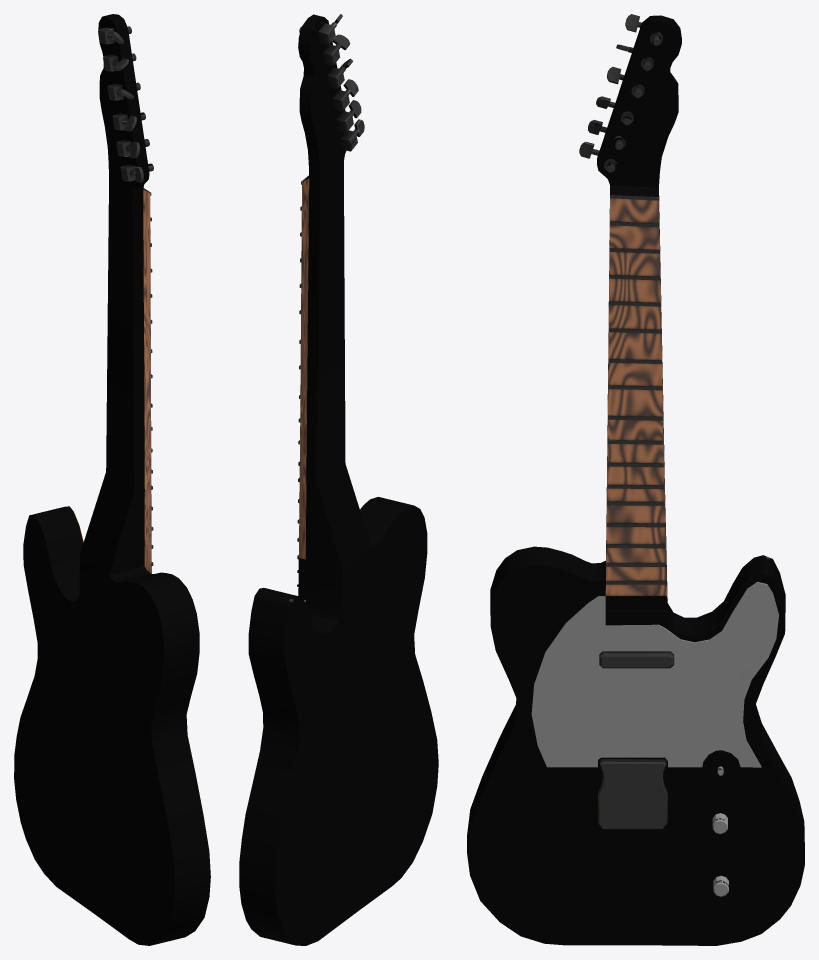
The model's file is gitara.fbx.
The picture shows the model from 3 angles, left to right: view 1: azimuth 30°, elevation 25°; view 2: azimuth 150°, elevation 25°; view 3: azimuth 270°, elevation 25°; orthographic projection. The views are drawn at different scales.
Parts seen in each view (by area): view 1: TELE.001; view 2: TELE.001; view 3: TELE.001.
Part boxes in pixels (x1=…): TELE.001: x1=14, y1=14, x2=210, y2=945; TELE.001: x1=239, y1=14, x2=438, y2=945; TELE.001: x1=467, y1=14, x2=804, y2=945.
Bounding box in the file's own units: 28.73 × 5.15 × 86.8.
1 material, 1 textured.
